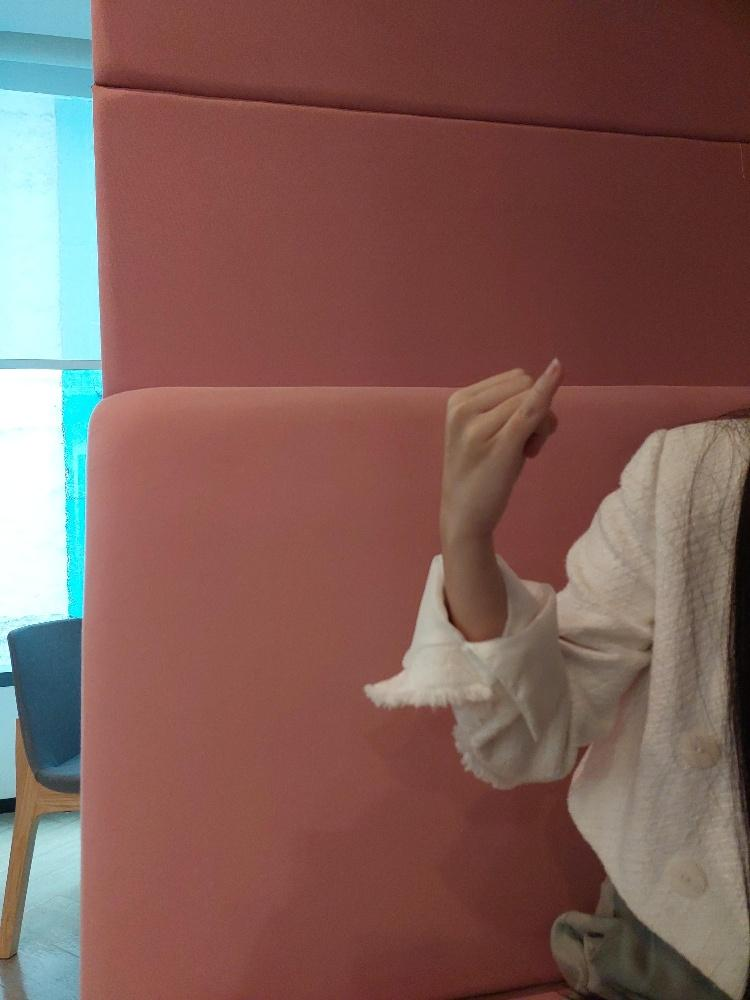j: (442, 359, 561, 527)
